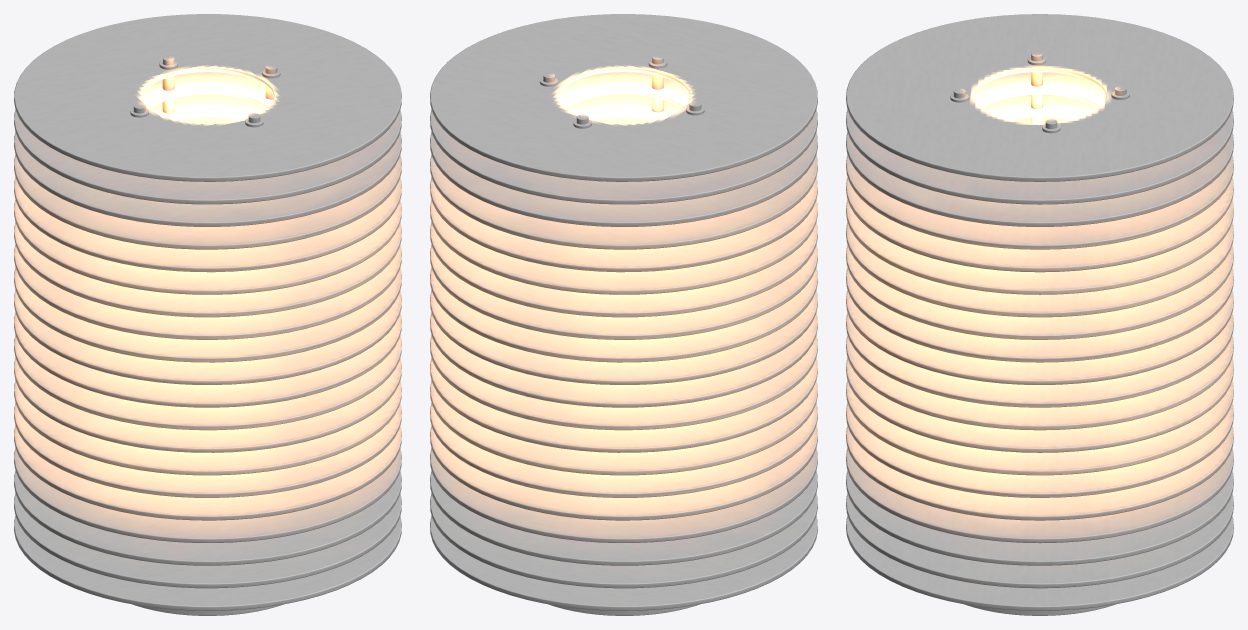
Rendered from lamp87318.glb.
3 views of the same model, side by side, from view 1: azimuth 30°, elevation 25°; view 2: azimuth 150°, elevation 25°; view 3: azimuth 270°, elevation 25° (orthographic).
Visible parts, largest first — view 1: lamp87318; view 2: lamp87318; view 3: lamp87318.
Part boxes in pixels (x1=…): lamp87318: x1=14, y1=14, x2=401, y2=615; lamp87318: x1=430, y1=14, x2=817, y2=615; lamp87318: x1=846, y1=14, x2=1233, y2=615.
Size of the model in its own units: 0.19 by 0.26 by 0.19.
Materials: 2 (1 with a texture image).
